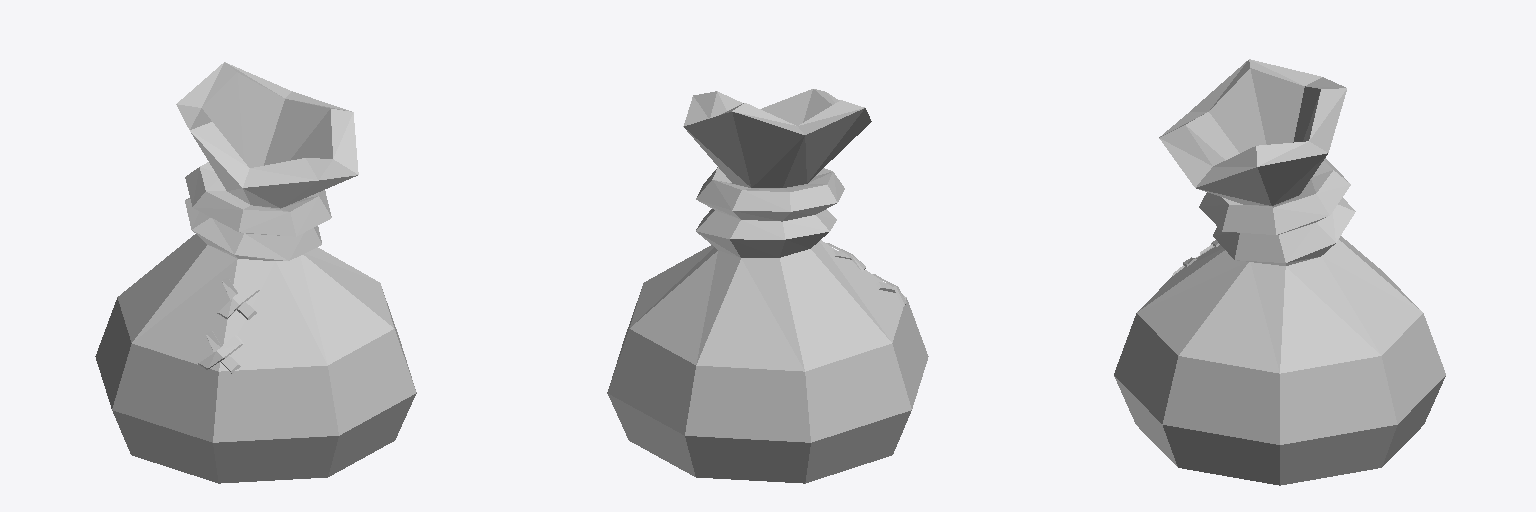
The model's file is pouch.obj.
The picture shows the model from 3 angles: view 1: azimuth 30°, elevation 25°; view 2: azimuth 150°, elevation 25°; view 3: azimuth 270°, elevation 25°; orthographic projection.
Visible parts, largest first — view 1: mff_prop_sack_0_0; view 2: mff_prop_sack_0_0; view 3: mff_prop_sack_0_0.
Boxes of the visible parts, <box> form: mff_prop_sack_0_0: <box>95,62,416,483</box>; mff_prop_sack_0_0: <box>607,89,928,483</box>; mff_prop_sack_0_0: <box>1114,59,1445,485</box>.
Bounding box in the file's own units: 0.5903 × 0.6609 × 0.5903.